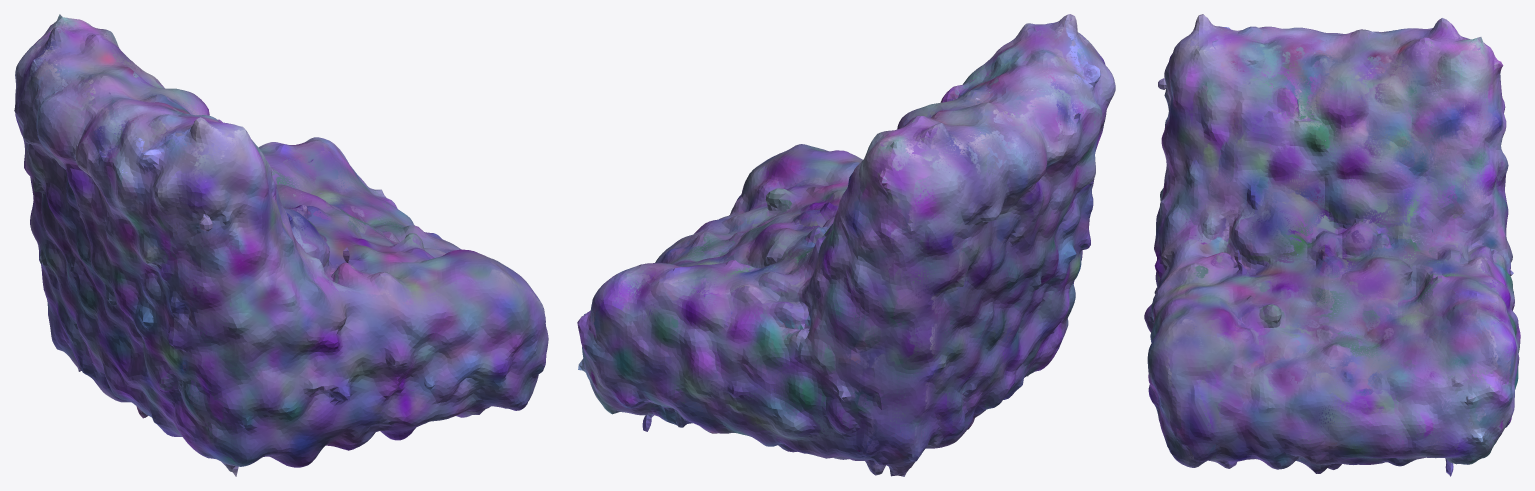
The model's file is splashing.glb.
3 renders of one model, left to right at view 1: azimuth 30°, elevation 25°; view 2: azimuth 150°, elevation 25°; view 3: azimuth 270°, elevation 25°, orthographic. The views are drawn at different scales.
Bounding box in the file's own units: 1.42 × 1.29 × 1.28.
Materials: 1 (1 with a texture image).
